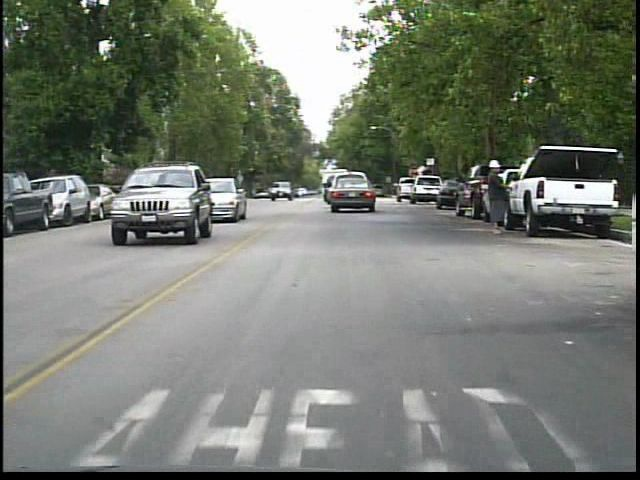person: (483, 157, 514, 239)
